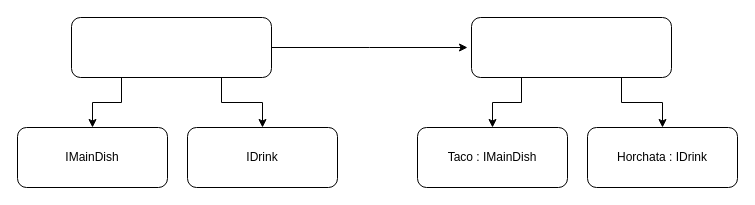
Some shapes in this 755 by 205 pixel diagram are drawn without their labels. Each missing label, with the box of its shape:
IRestaurantFactory: (70, 16, 272, 78)
MexicanRestaurantFactory: (470, 16, 672, 78)
